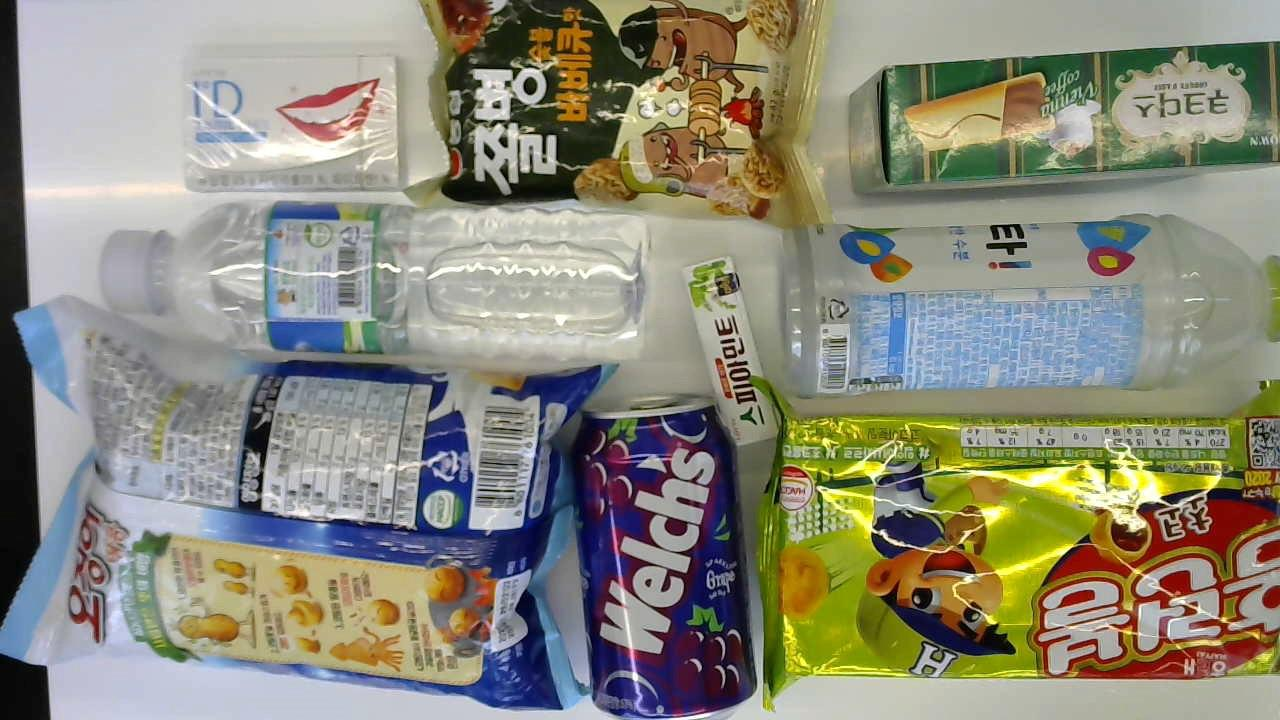ID_gum: (177, 54, 405, 195)
couque_coffee: (848, 37, 1280, 192)
homerunball: (764, 418, 1280, 702)
jjolbyung_ori: (405, 0, 835, 235)
samdasu: (96, 200, 654, 361)
spearmint: (679, 254, 784, 448)
squid_peanut: (9, 293, 610, 701)
toreta: (781, 213, 1280, 395)
welchs: (570, 399, 760, 716)
